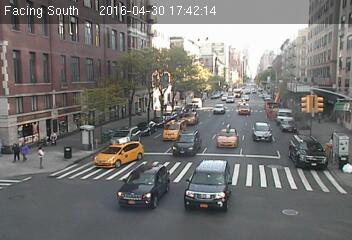neg: (205, 152, 225, 178), (79, 167, 97, 191), (316, 176, 334, 200), (152, 162, 169, 185), (52, 98, 69, 120), (117, 66, 132, 86), (190, 81, 205, 100), (214, 48, 229, 67), (156, 66, 170, 85), (62, 49, 76, 68), (113, 186, 127, 205), (184, 39, 198, 57), (157, 127, 171, 144), (90, 28, 103, 46), (227, 131, 240, 148), (92, 78, 105, 95), (236, 66, 249, 83), (291, 52, 304, 68), (283, 176, 295, 193), (244, 183, 256, 199), (19, 179, 31, 194), (53, 177, 64, 191), (89, 196, 99, 210), (307, 144, 317, 158), (264, 124, 274, 137), (326, 127, 336, 140), (286, 17, 296, 30), (258, 45, 267, 57), (179, 111, 187, 122), (87, 131, 95, 142), (66, 149, 74, 159), (100, 156, 108, 166), (241, 97, 247, 105)
pos: (31, 144, 48, 167), (14, 139, 31, 162), (8, 141, 21, 159), (45, 127, 58, 144), (41, 132, 49, 143)
